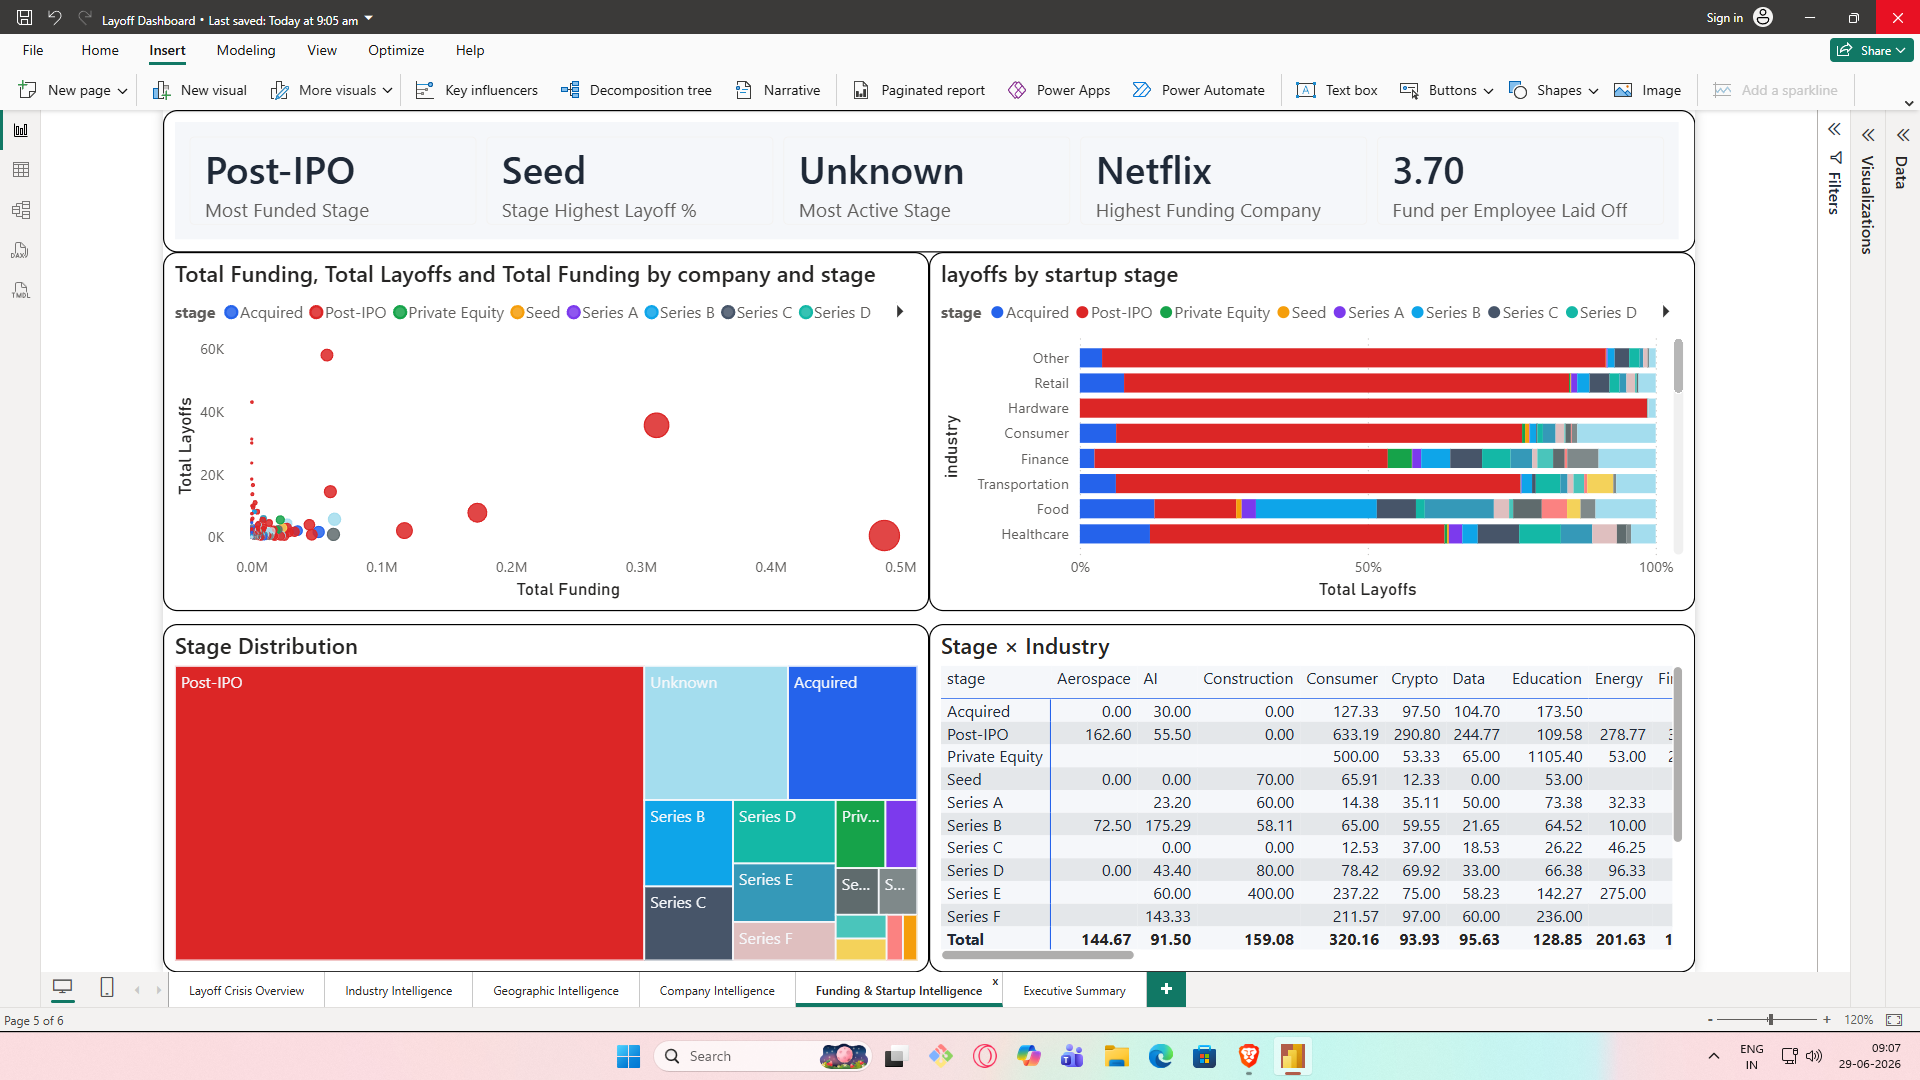

This screenshot's page, from the dashboard's own definition file:
{"tool":"powerbi","page":{"name":"Funding & Startup Intelligence","canvas":[1280,720],"ordinal":4},"visuals":[{"type":"cardVisual","fields":{"Data":["layoffs.Most Funded Stage","layoffs.Stage Highest Layoff %","layoffs.Most Active Stage","layoffs.Highest Funding Company","layoffs.Funding per Employee Laid Off"]},"box":[0,0,1280,118.7],"z":0},{"type":"scatterChart","fields":{"X":["layoffs.Total Funding"],"Y":["layoffs.Total Layoffs"],"Series":["layoffs.stage"],"Size":["layoffs.Total Funding"],"Category":["layoffs.company"]},"box":[0,118.7,640,299.6],"z":1000},{"type":"treemap","title":"Stage Distribution","fields":{"Group":["layoffs.stage"],"Values":["layoffs.Total Layoffs"]},"box":[0,429,640,291],"z":2000},{"type":"hundredPercentStackedBarChart","title":"layoffs by startup stage","fields":{"Category":["layoffs.industry"],"Series":["layoffs.stage"],"Y":["layoffs.Total Layoffs"]},"box":[640,119,640,300],"z":3000},{"type":"pivotTable","title":"Stage × Industry","fields":{"Rows":["layoffs.stage"],"Columns":["layoffs.industry"],"Values":["layoffs.Avg Layoffs"]},"box":[640,429,640,291],"z":4000}]}

Visuals, with their boxes on the page's 1280x720 design canvas (x1, y1, x2, y2). These are canvas units, not pixel positions in the 1920x1080 screenshot, which may show the page scaled, cropped or inside an application window:
cardVisual - layoffs.Most Funded Stage x layoffs.Stage Highest Layoff %: [0, 0, 1280, 119]
scatterChart - layoffs.Total Funding x layoffs.Total Layoffs: [0, 119, 640, 418]
"Stage Distribution" treemap: [0, 429, 640, 720]
"layoffs by startup stage" hundredPercentStackedBarChart: [640, 119, 1280, 419]
"Stage × Industry" pivotTable: [640, 429, 1280, 720]
